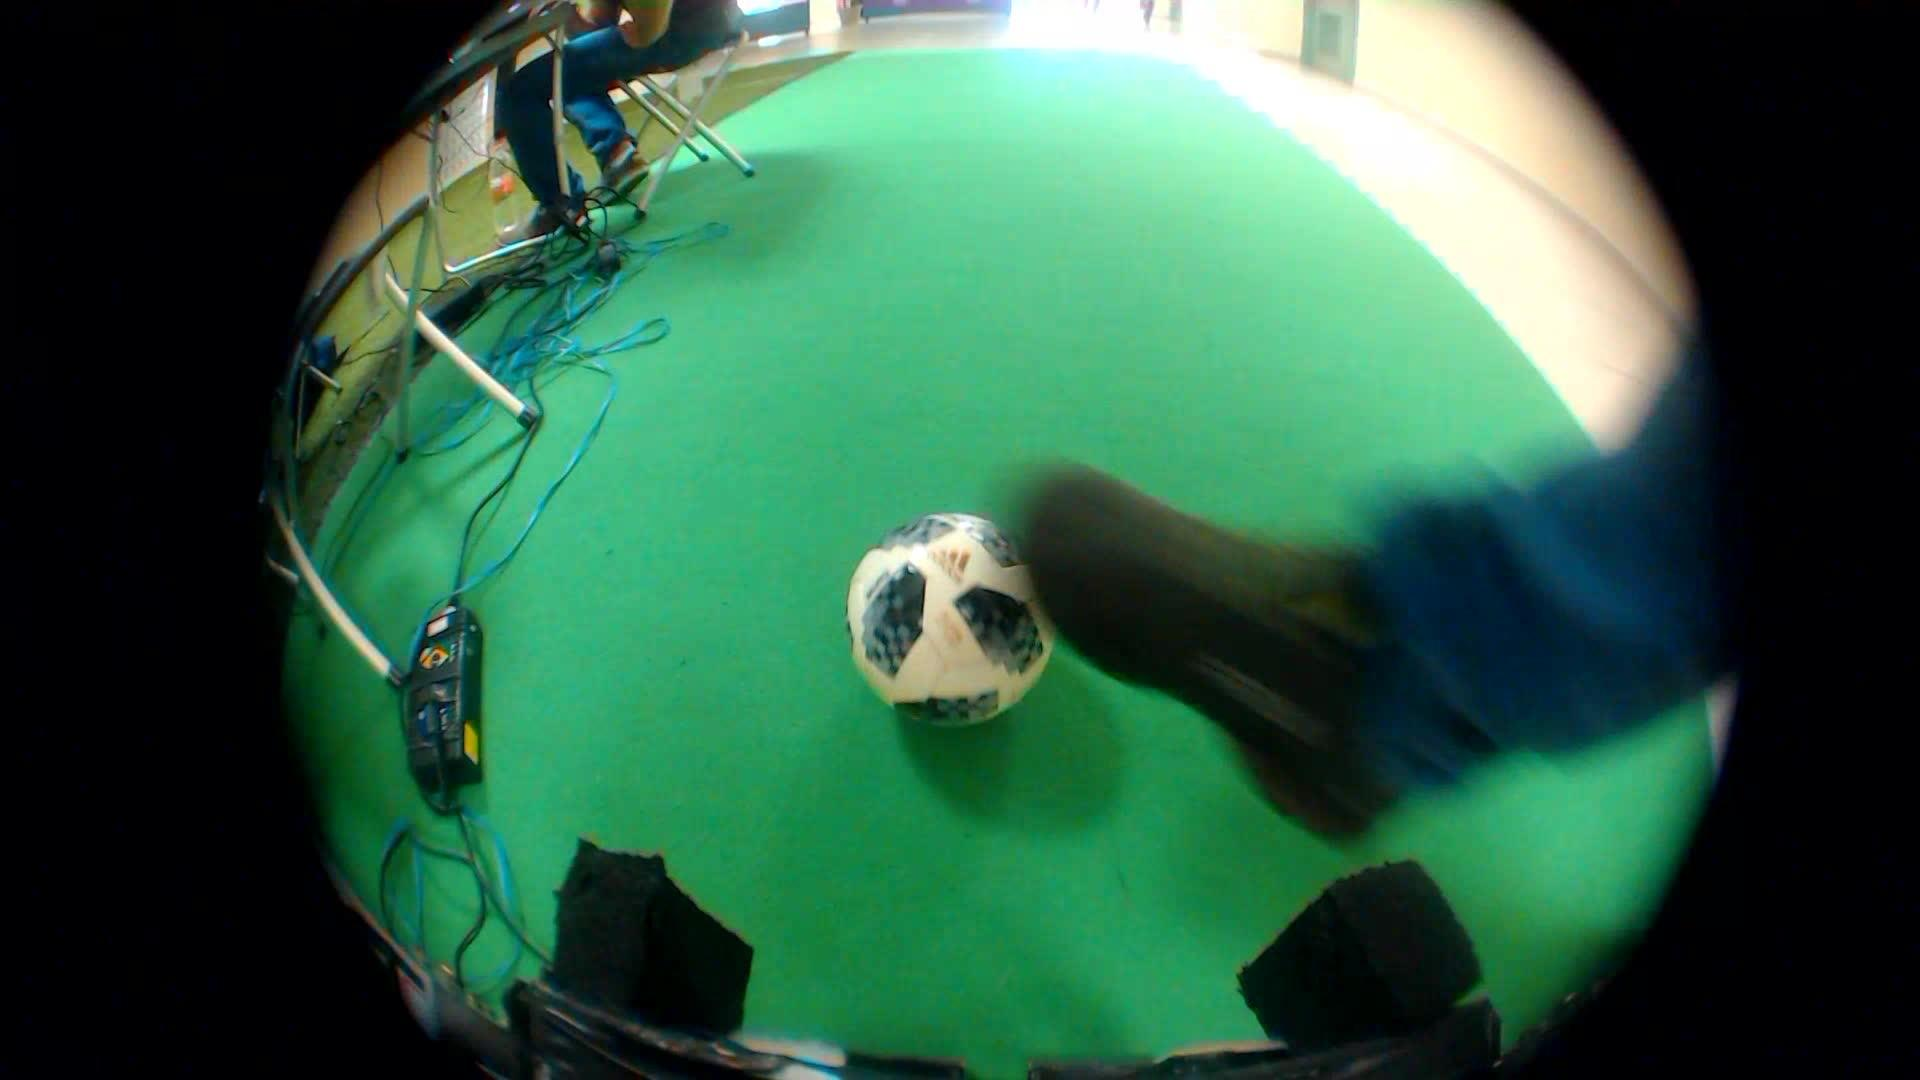ball: (816, 492, 1085, 742)
